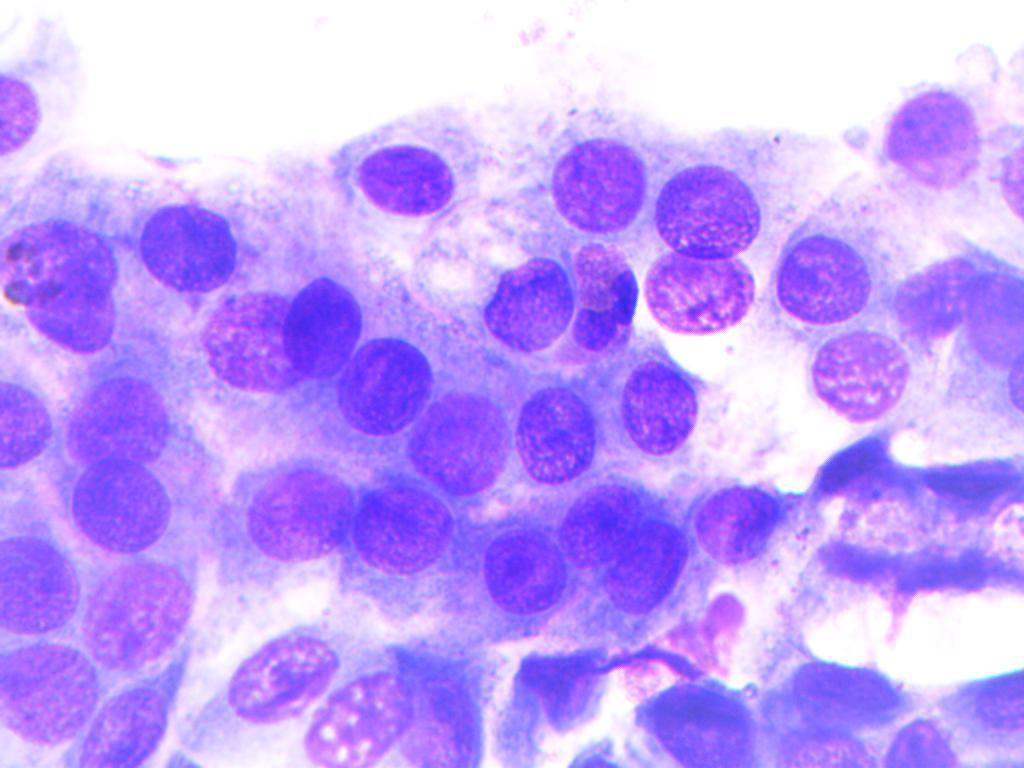artifact: (811, 439, 1024, 622), (602, 590, 759, 676), (493, 649, 617, 757)
eosinophil: (571, 240, 636, 354)
epithelial: (763, 170, 898, 346), (332, 101, 492, 231), (220, 455, 350, 567), (872, 83, 993, 202), (454, 241, 575, 360), (74, 553, 195, 672), (629, 673, 765, 767), (536, 122, 651, 233), (127, 187, 242, 298), (57, 366, 189, 461), (218, 630, 342, 731), (302, 670, 419, 768), (64, 459, 183, 554), (809, 325, 911, 433), (202, 286, 303, 394), (787, 650, 912, 736), (654, 159, 764, 255), (604, 355, 704, 460), (505, 380, 605, 485), (681, 476, 781, 581), (354, 479, 454, 584), (467, 518, 567, 623), (635, 244, 750, 334), (332, 337, 438, 434), (280, 271, 368, 380), (409, 401, 512, 493), (0, 223, 121, 297), (3, 641, 89, 742), (78, 680, 171, 767), (1, 529, 77, 628), (607, 522, 693, 609), (557, 479, 640, 567), (24, 282, 128, 352), (897, 250, 978, 339), (407, 671, 481, 768), (964, 266, 1024, 370), (0, 379, 53, 469), (0, 73, 46, 161)
